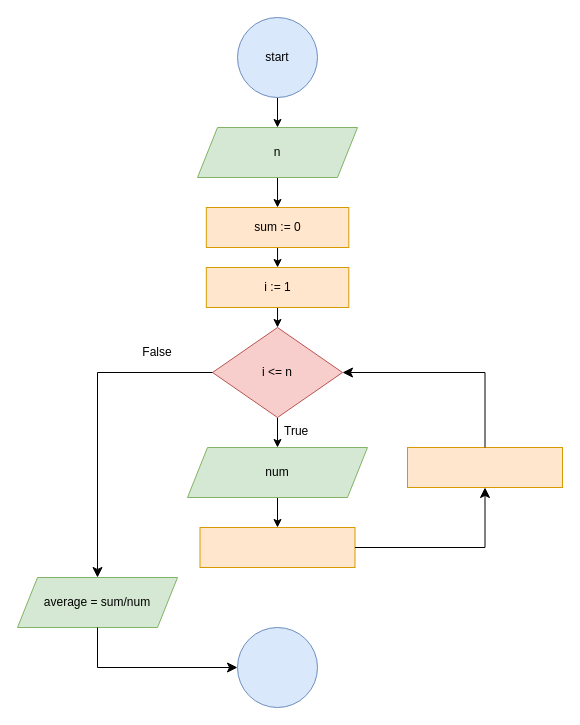
Image size: 580x725. Some labels were removed from this diagram. The centre of each missing label's shape, as x and y in pixels:
"end" belongs at (x=277, y=667).
"i++" belongs at (x=484, y=467).
"sum += num" belongs at (x=277, y=547).
